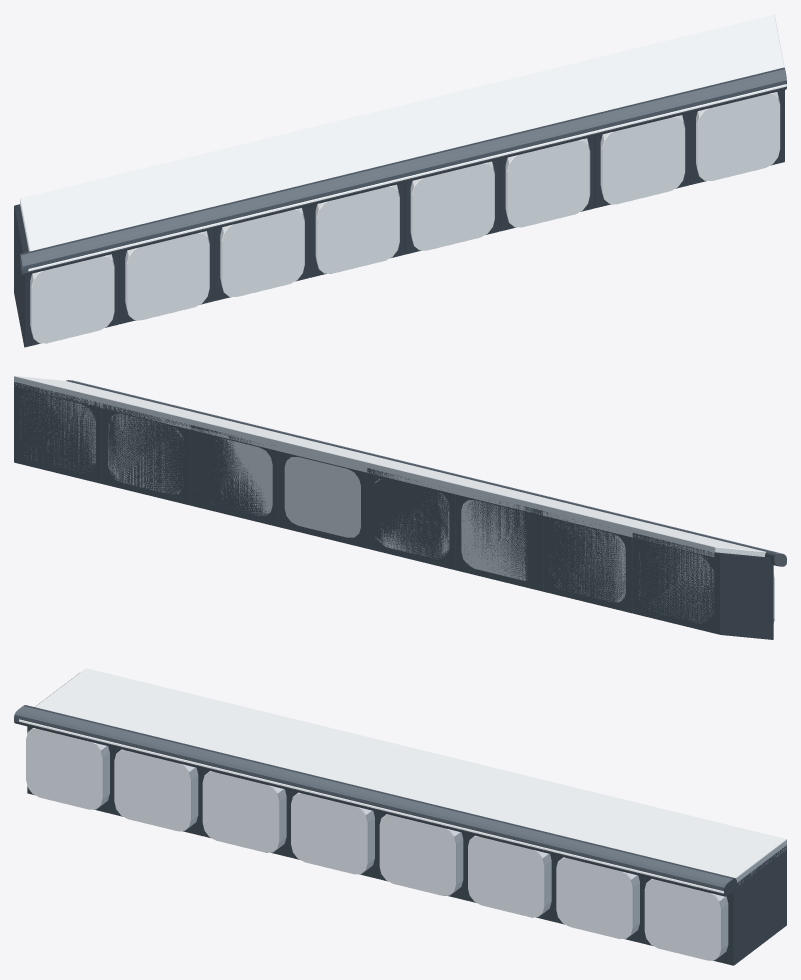
The model's file is Terrain_TopRun8L.gltf.
3 renders of one model, top to bottom at view 1: azimuth 30°, elevation 25°; view 2: azimuth 150°, elevation 25°; view 3: azimuth 330°, elevation 25°, orthographic. The views are drawn at different scales.
Visible parts, largest first — view 1: Terrain_TopRun8L_baked; view 2: Terrain_TopRun8L_baked; view 3: Terrain_TopRun8L_baked.
Part boxes in pixels (<box>): Terrain_TopRun8L_baked: <box>14,14,786,347</box>; Terrain_TopRun8L_baked: <box>14,376,786,639</box>; Terrain_TopRun8L_baked: <box>14,668,786,965</box>.
Size of the model in its own units: 8.33 by 1.18 by 0.74.
